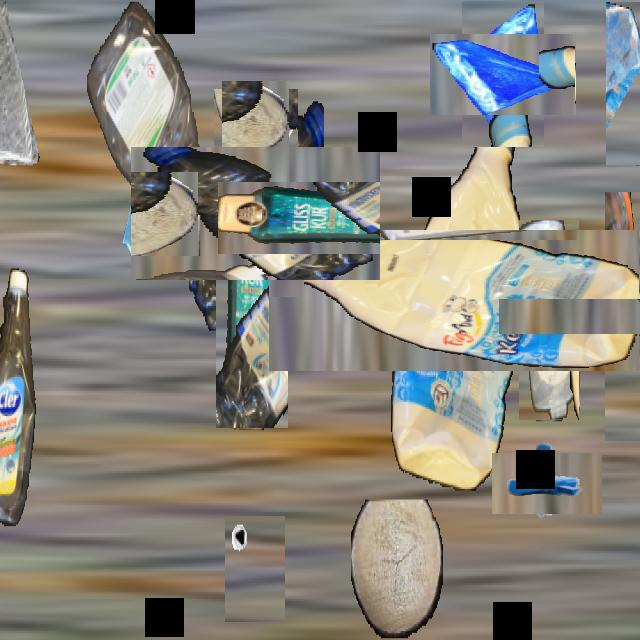glass: (446, 18, 560, 132), (121, 167, 187, 285), (0, 2, 45, 165), (606, 2, 640, 165)
metal: (504, 441, 590, 526), (225, 516, 285, 622)
plastic: (328, 171, 588, 430), (160, 118, 352, 309), (87, 2, 207, 233), (216, 176, 288, 428), (484, 255, 614, 385), (551, 245, 640, 387), (0, 268, 36, 524)
wood: (351, 500, 443, 638), (218, 85, 294, 160)
